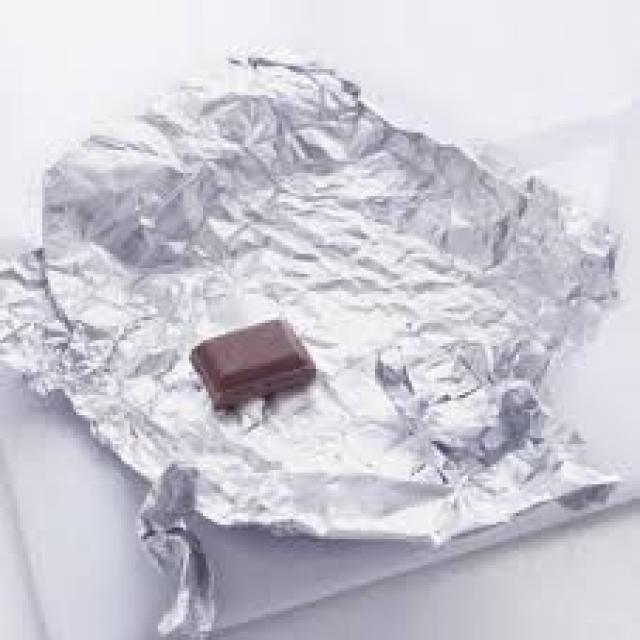organic waste: (186, 314, 316, 410)
